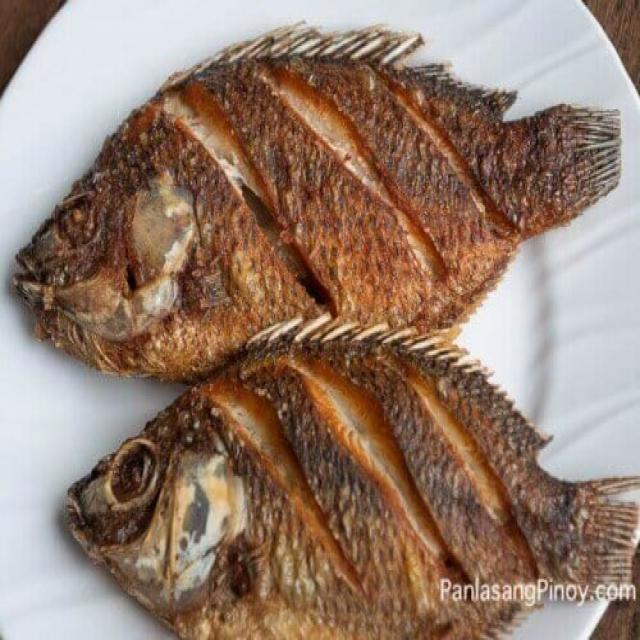Peixe: (8, 45, 623, 382), (60, 317, 639, 638)
